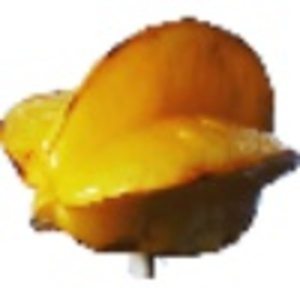carambola: (1, 15, 300, 279)
